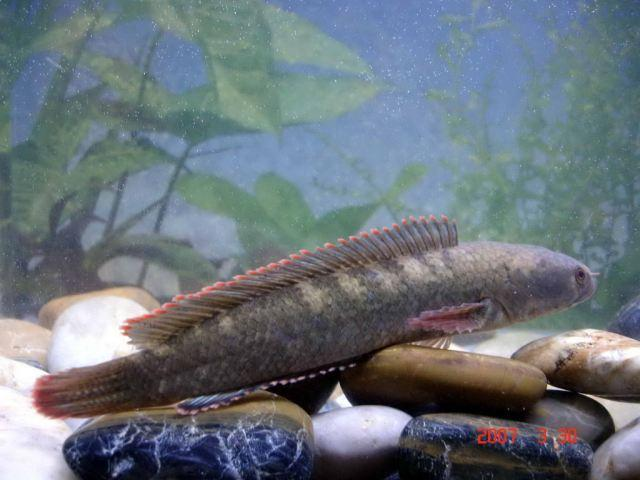Mulut: (560, 254, 612, 320)
Sirip Anal: (169, 352, 365, 417)
Sirip Dada: (406, 292, 498, 359)
Sirip Ekor: (28, 346, 168, 428)
Sirip Punggung: (105, 198, 462, 346)
